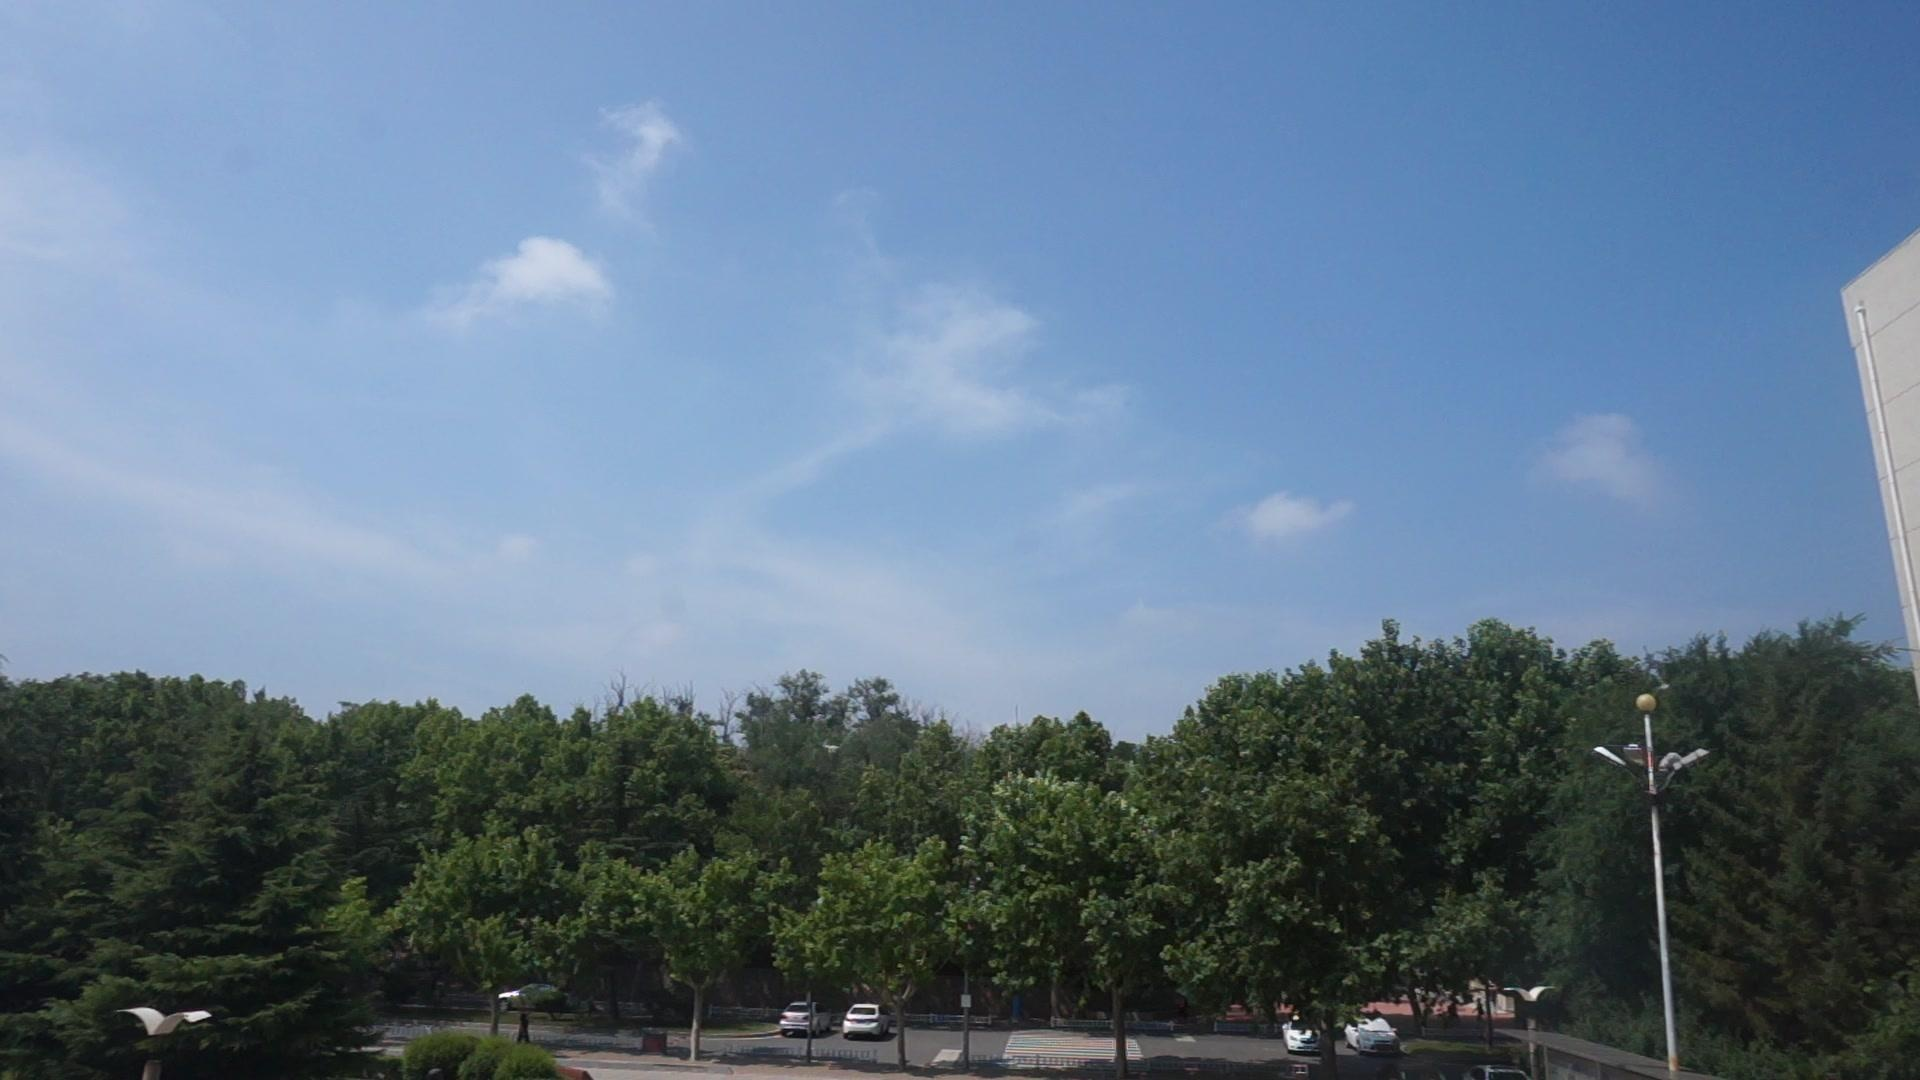UAV: (824, 746, 840, 753)
